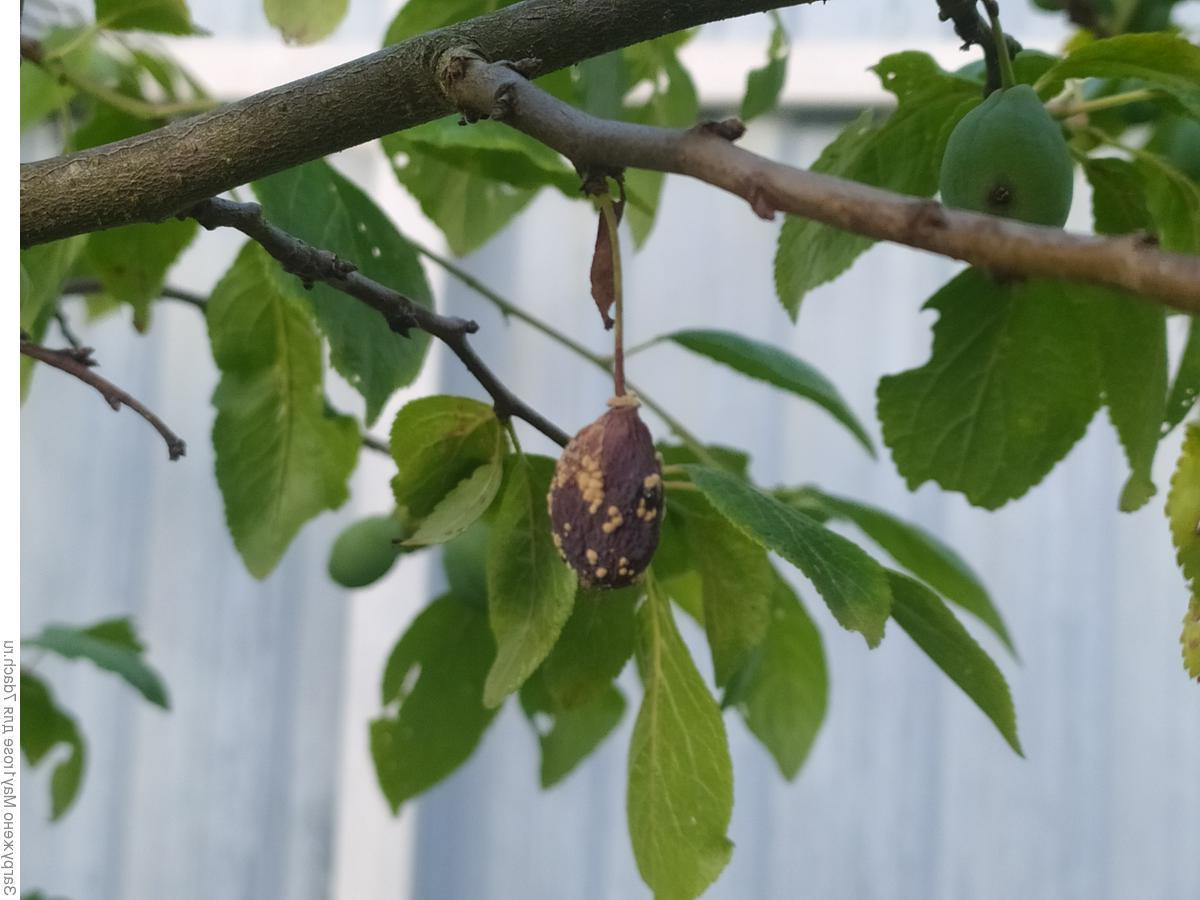mummified_fruits: (547, 395, 663, 588)
